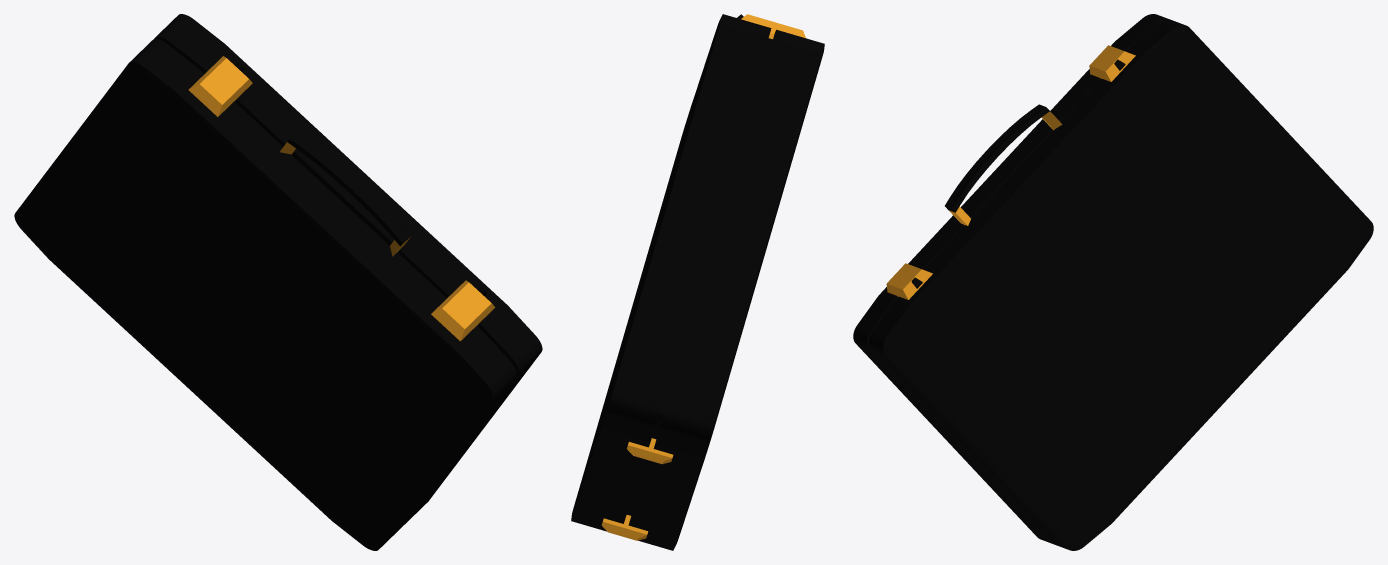
Rendered from briefcase.glb.
The picture shows the model from 3 angles, left to right: view 1: azimuth 30°, elevation 25°; view 2: azimuth 150°, elevation 25°; view 3: azimuth 270°, elevation 25°; orthographic projection. The views are drawn at different scales.
Parts seen in each view (by area): view 1: Cube.001; view 2: Cube.001; view 3: Cube.001.
Part boxes in pixels (<box>): Cube.001: <box>14,14,542,550</box>; Cube.001: <box>571,14,824,550</box>; Cube.001: <box>853,14,1373,550</box>.
Size of the model in its own units: 0.2211 by 0.3892 by 0.3954.
